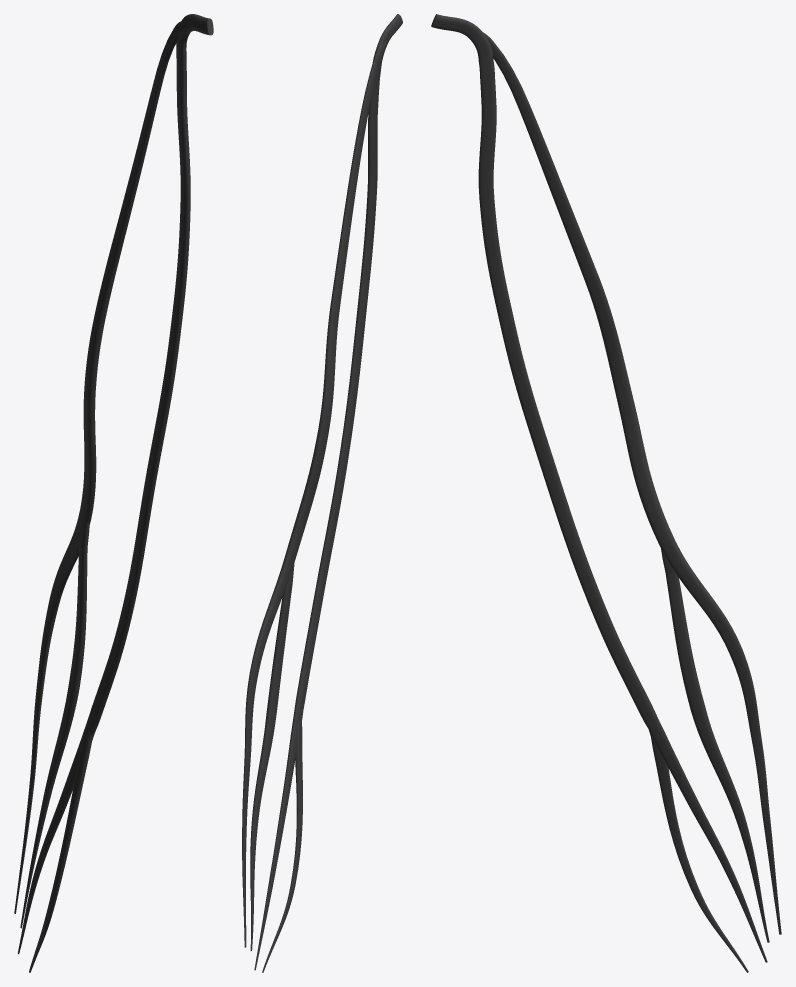
Rendered from N_1_olfactory_vomeronasal.glb.
3 renders of one model, left to right at view 1: azimuth 30°, elevation 25°; view 2: azimuth 150°, elevation 25°; view 3: azimuth 270°, elevation 25°, orthographic. The views are drawn at different scales.
Visible parts, largest first — view 1: N_1_olfactory_vomeronasal; view 2: N_1_olfactory_vomeronasal; view 3: N_1_olfactory_vomeronasal.
Part boxes in pixels (x1,y1,x2,y2): N_1_olfactory_vomeronasal: [14, 14, 213, 972]; N_1_olfactory_vomeronasal: [242, 14, 402, 972]; N_1_olfactory_vomeronasal: [431, 14, 781, 972].
Bounding box in the file's own units: 0.00153 × 0.0469 × 0.0155.
1 material, 1 textured.
